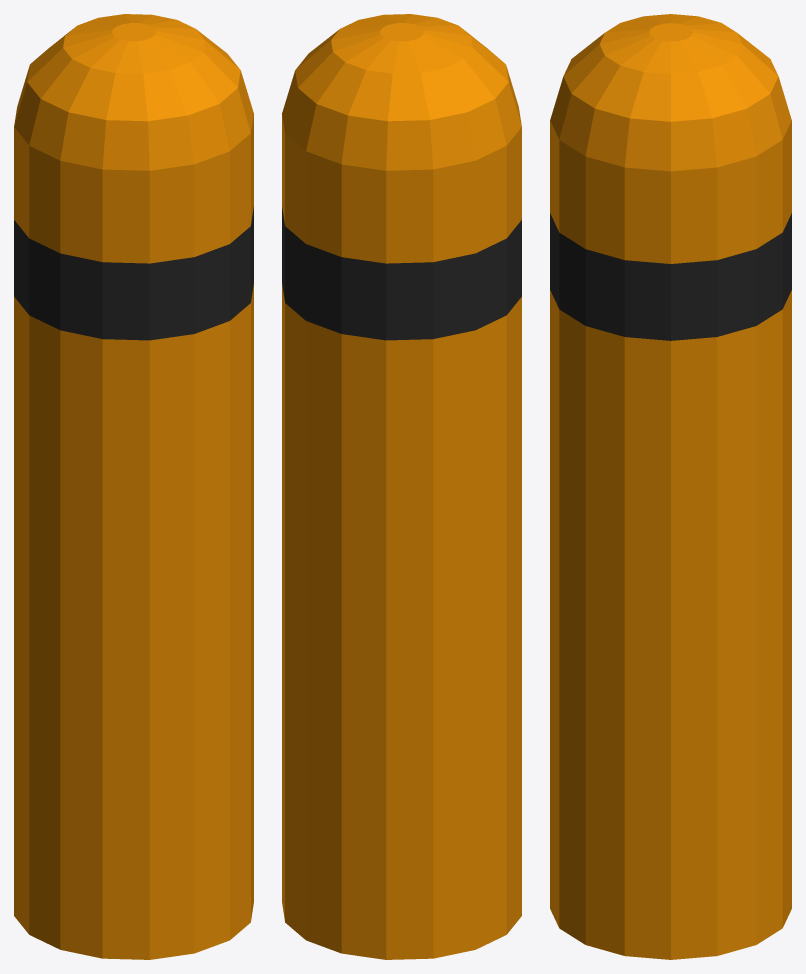
Rendered from CarPillar.fbx.
The picture shows the model from 3 angles, left to right: view 1: azimuth 30°, elevation 25°; view 2: azimuth 150°, elevation 25°; view 3: azimuth 270°, elevation 25°; orthographic projection.
Parts seen in each view (by area): view 1: CarPillar; view 2: CarPillar; view 3: CarPillar.
Part boxes in pixels (<box>): CarPillar: <box>14,14,253,959</box>; CarPillar: <box>282,14,521,959</box>; CarPillar: <box>550,14,791,959</box>.
Size of the model in its own units: 20 by 80 by 20.
